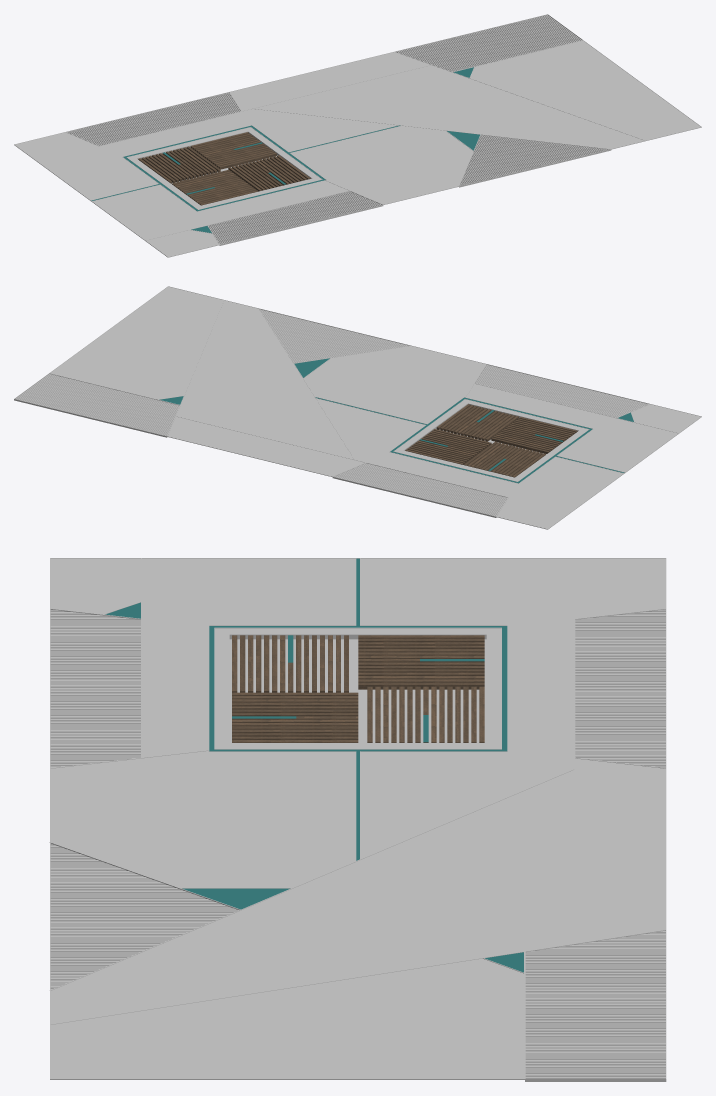
3 renders of one model, top to bottom at view 1: azimuth 30°, elevation 25°; view 2: azimuth 150°, elevation 25°; view 3: azimuth 270°, elevation 25°, orthographic. The views are drawn at different scales.
Visible parts, largest first — view 1: M_C_001_f_48x24; view 2: M_C_001_f_48x24; view 3: M_C_001_f_48x24.
Part boxes in pixels (x1,y1,x2,y2): M_C_001_f_48x24: (14, 14, 701, 257); M_C_001_f_48x24: (14, 286, 701, 529); M_C_001_f_48x24: (49, 558, 666, 1081).
Bounding box in the file's own units: 48 × 0.221 × 24.02.
